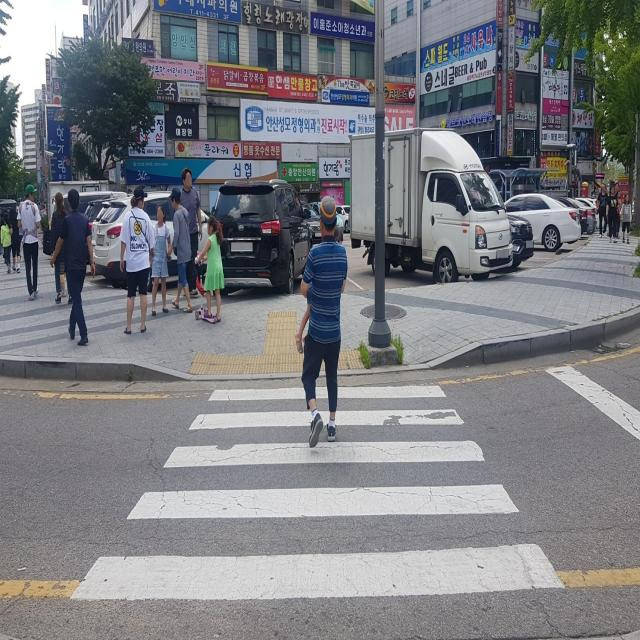횡단보도: (67, 382, 566, 606)
